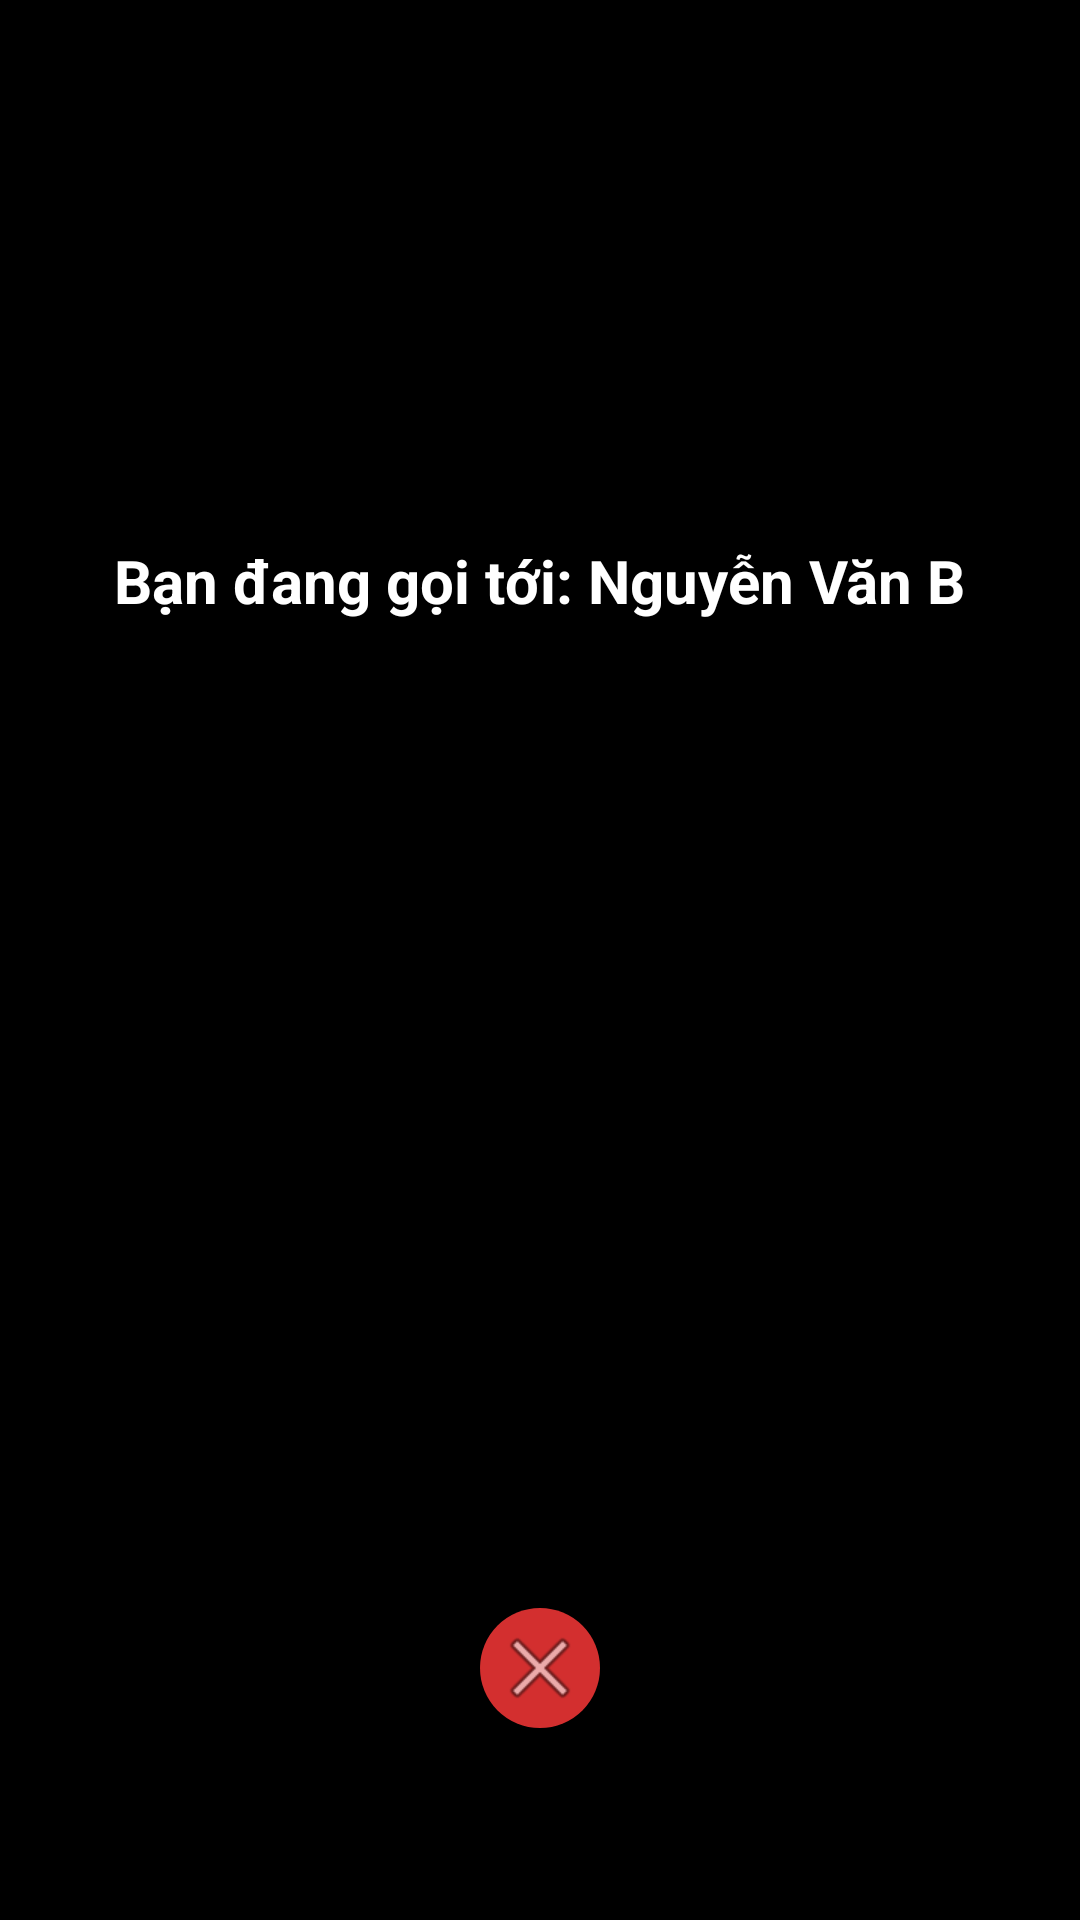

Where icons sit on this 1080 x 1920 app screen, as (x1, y1, x2, y2):
Từ chối: (480, 1608, 600, 1728)
